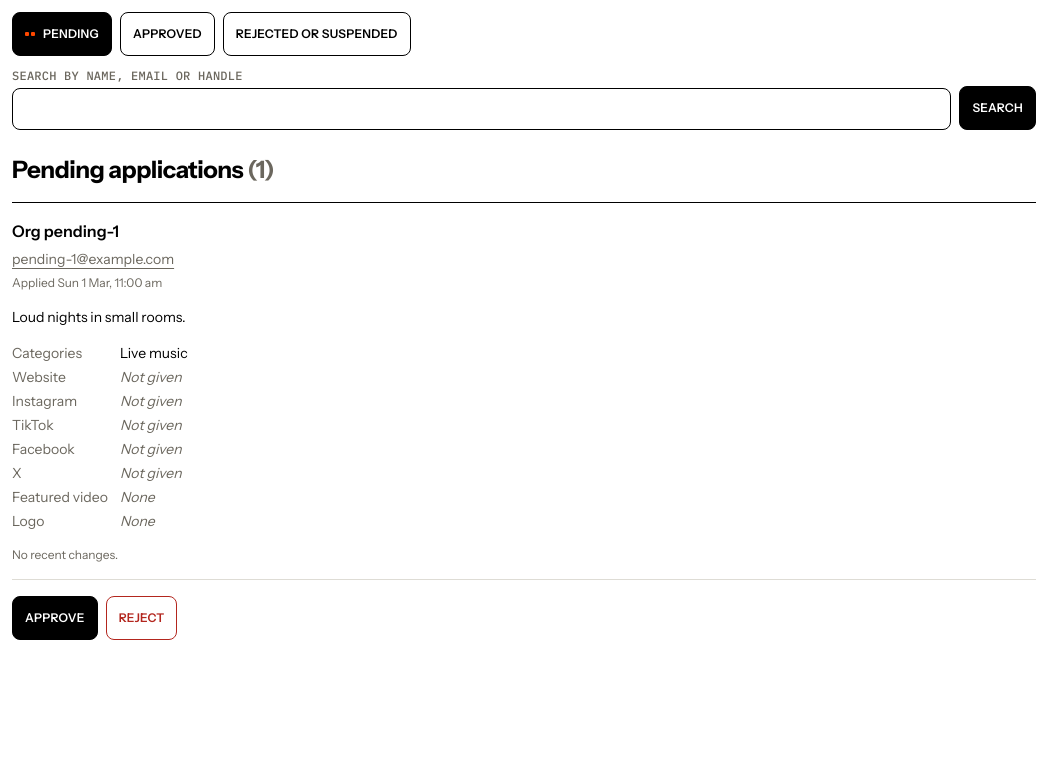
Scenario: Admin organisers: suspending › only offers Suspend… to approved organisers
expect the heading "Org pending-1" is shown: met, box [12, 221, 119, 241]
expect the button "Suspend…" is not shown: met
Click the button "Rejected or suspended" at (317, 34), box [223, 12, 411, 56]
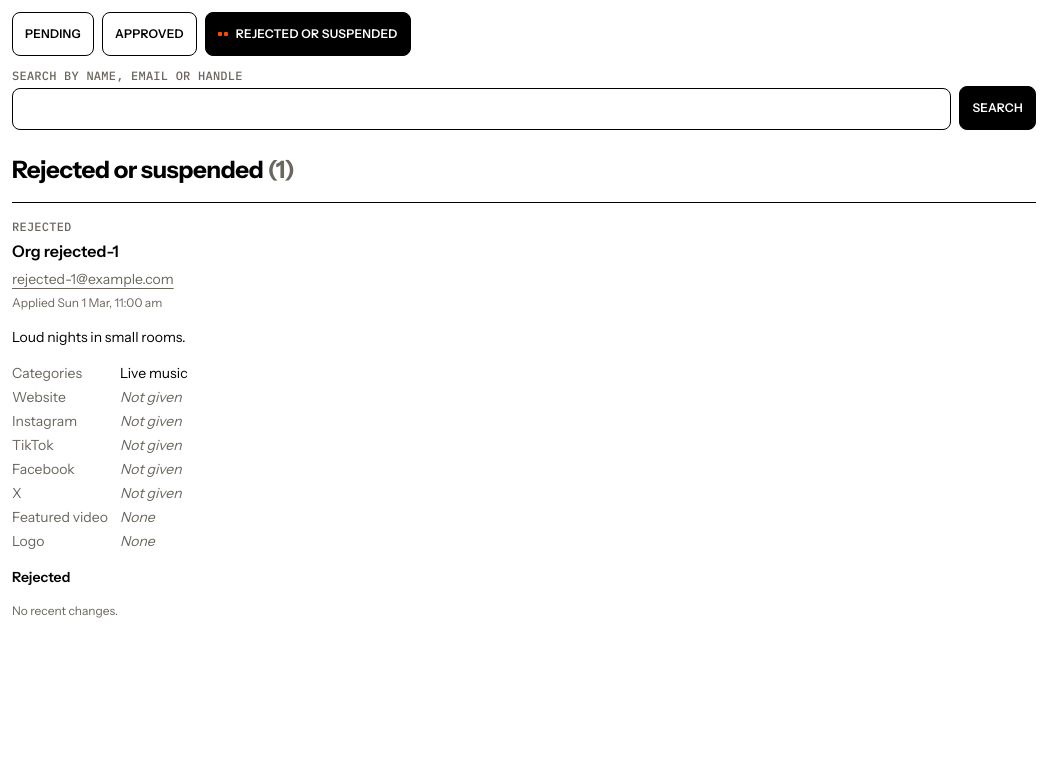
expect the button "Suspend…" is not shown: met
expect the heading "Org rejected-1" is shown: met, box [12, 241, 119, 261]
Click the button "Approved" at (149, 34), box [102, 12, 197, 56]
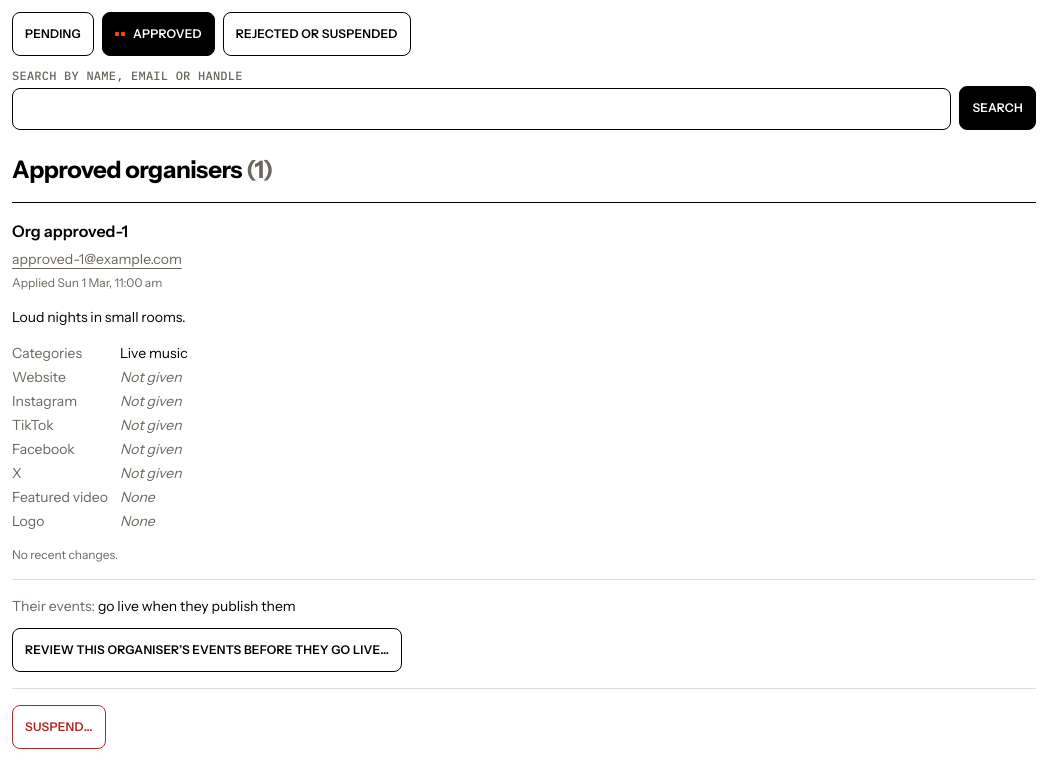
expect the heading "Org approved-1" is shown: met, box [12, 221, 128, 241]
expect the button "Suspend…" is shown: met, box [12, 705, 106, 749]
